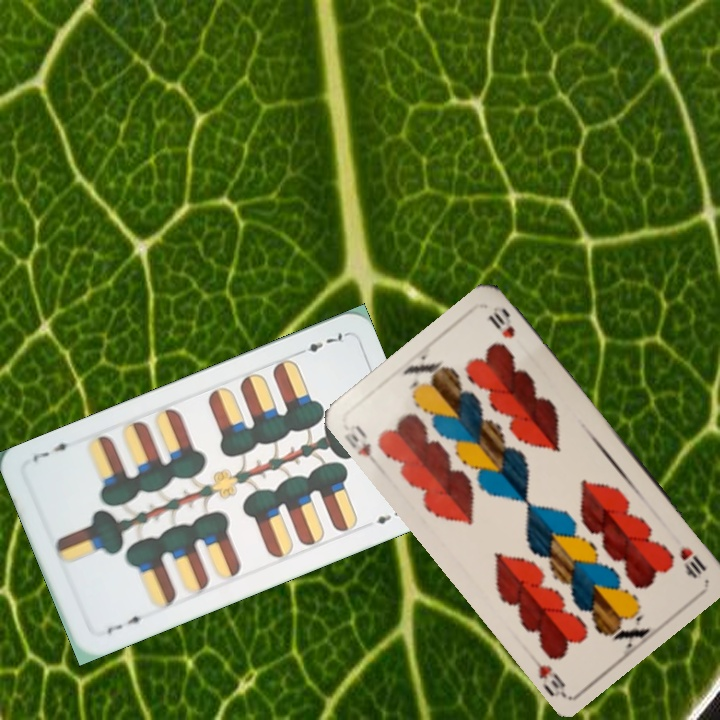E7: (292, 329, 349, 359), (102, 611, 150, 637)
H10: (340, 420, 374, 460), (676, 543, 709, 580)
